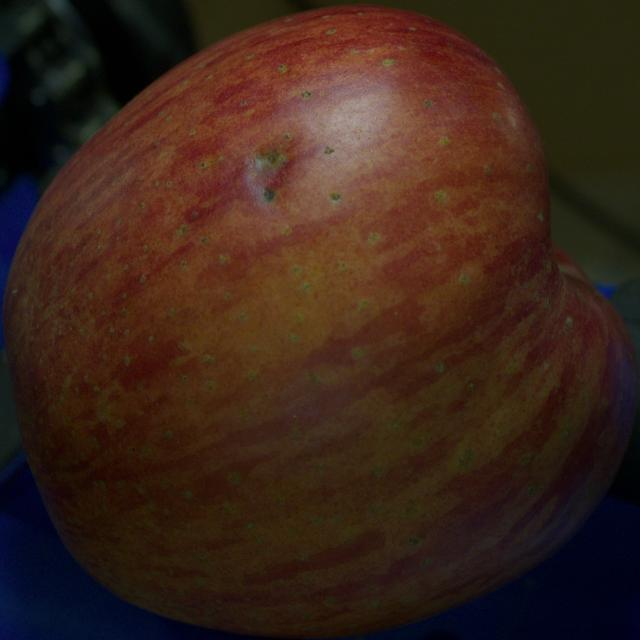apple: (4, 6, 636, 637)
bruise: (247, 132, 314, 209)
pest: (256, 150, 286, 169), (262, 189, 275, 201)
